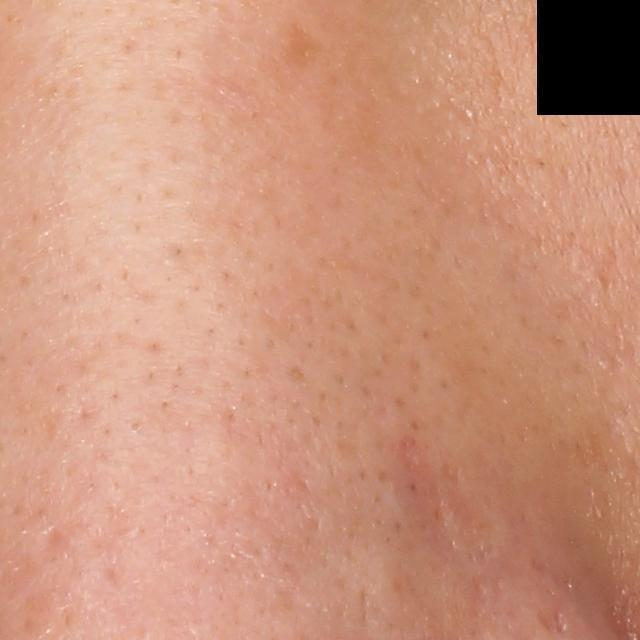atrophic_scar: (30, 523, 74, 571), (526, 606, 572, 633)
